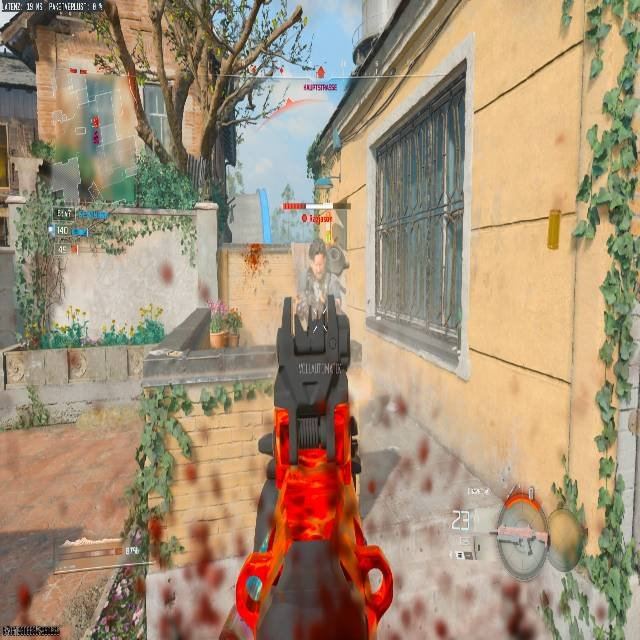head: (311, 252, 325, 275)
player: (297, 251, 345, 332)
